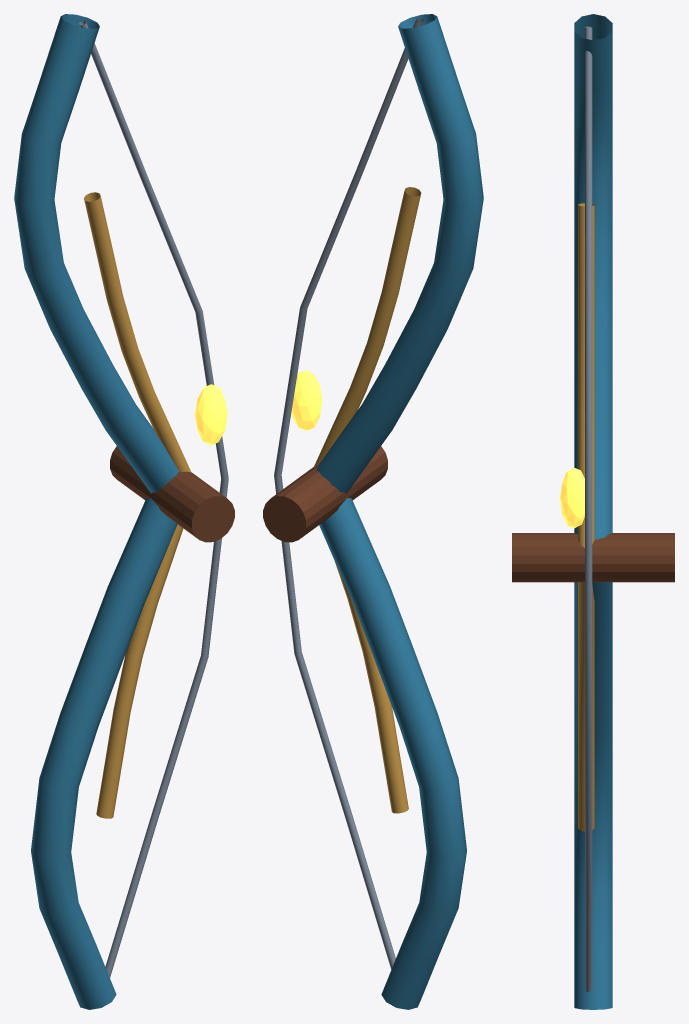
The model's file is weapon_horizon_bow.glb.
3 renders of one model, left to right at view 1: azimuth 30°, elevation 25°; view 2: azimuth 150°, elevation 25°; view 3: azimuth 270°, elevation 25°, orthographic.
Visible parts, largest first — view 1: BowLower, BowUpper, BowString, BowInnerUpper, BowInnerLower, Grip, Sight; view 2: BowLower, BowUpper, BowString, BowInnerUpper, Grip, BowInnerLower, Sight; view 3: BowUpper, BowLower, Grip, BowString, BowInnerUpper, BowInnerLower, Sight.
Part boxes in pixels (bbox=[...]): BowLower: bbox=[31, 498, 177, 1009]; BowUpper: bbox=[14, 14, 179, 493]; BowString: bbox=[79, 21, 228, 977]; BowInnerUpper: bbox=[84, 192, 191, 472]; BowInnerLower: bbox=[96, 524, 183, 818]; Grip: bbox=[110, 446, 234, 542]; Sight: bbox=[195, 384, 227, 445]; BowLower: bbox=[319, 498, 466, 1009]; BowUpper: bbox=[316, 14, 483, 493]; BowString: bbox=[274, 17, 423, 969]; BowInnerUpper: bbox=[314, 187, 421, 466]; Grip: bbox=[263, 446, 387, 542]; BowInnerLower: bbox=[335, 562, 408, 813]; Sight: bbox=[291, 370, 322, 430]; BowUpper: bbox=[574, 14, 612, 539]; BowLower: bbox=[574, 582, 612, 1009]; Grip: bbox=[512, 533, 674, 582]; BowString: bbox=[585, 26, 592, 992]; BowInnerUpper: bbox=[578, 203, 594, 547]; BowInnerLower: bbox=[578, 582, 594, 831]; Sight: bbox=[560, 467, 584, 528].
Size of the model in its own units: 0.5 by 2.26 by 0.34.
